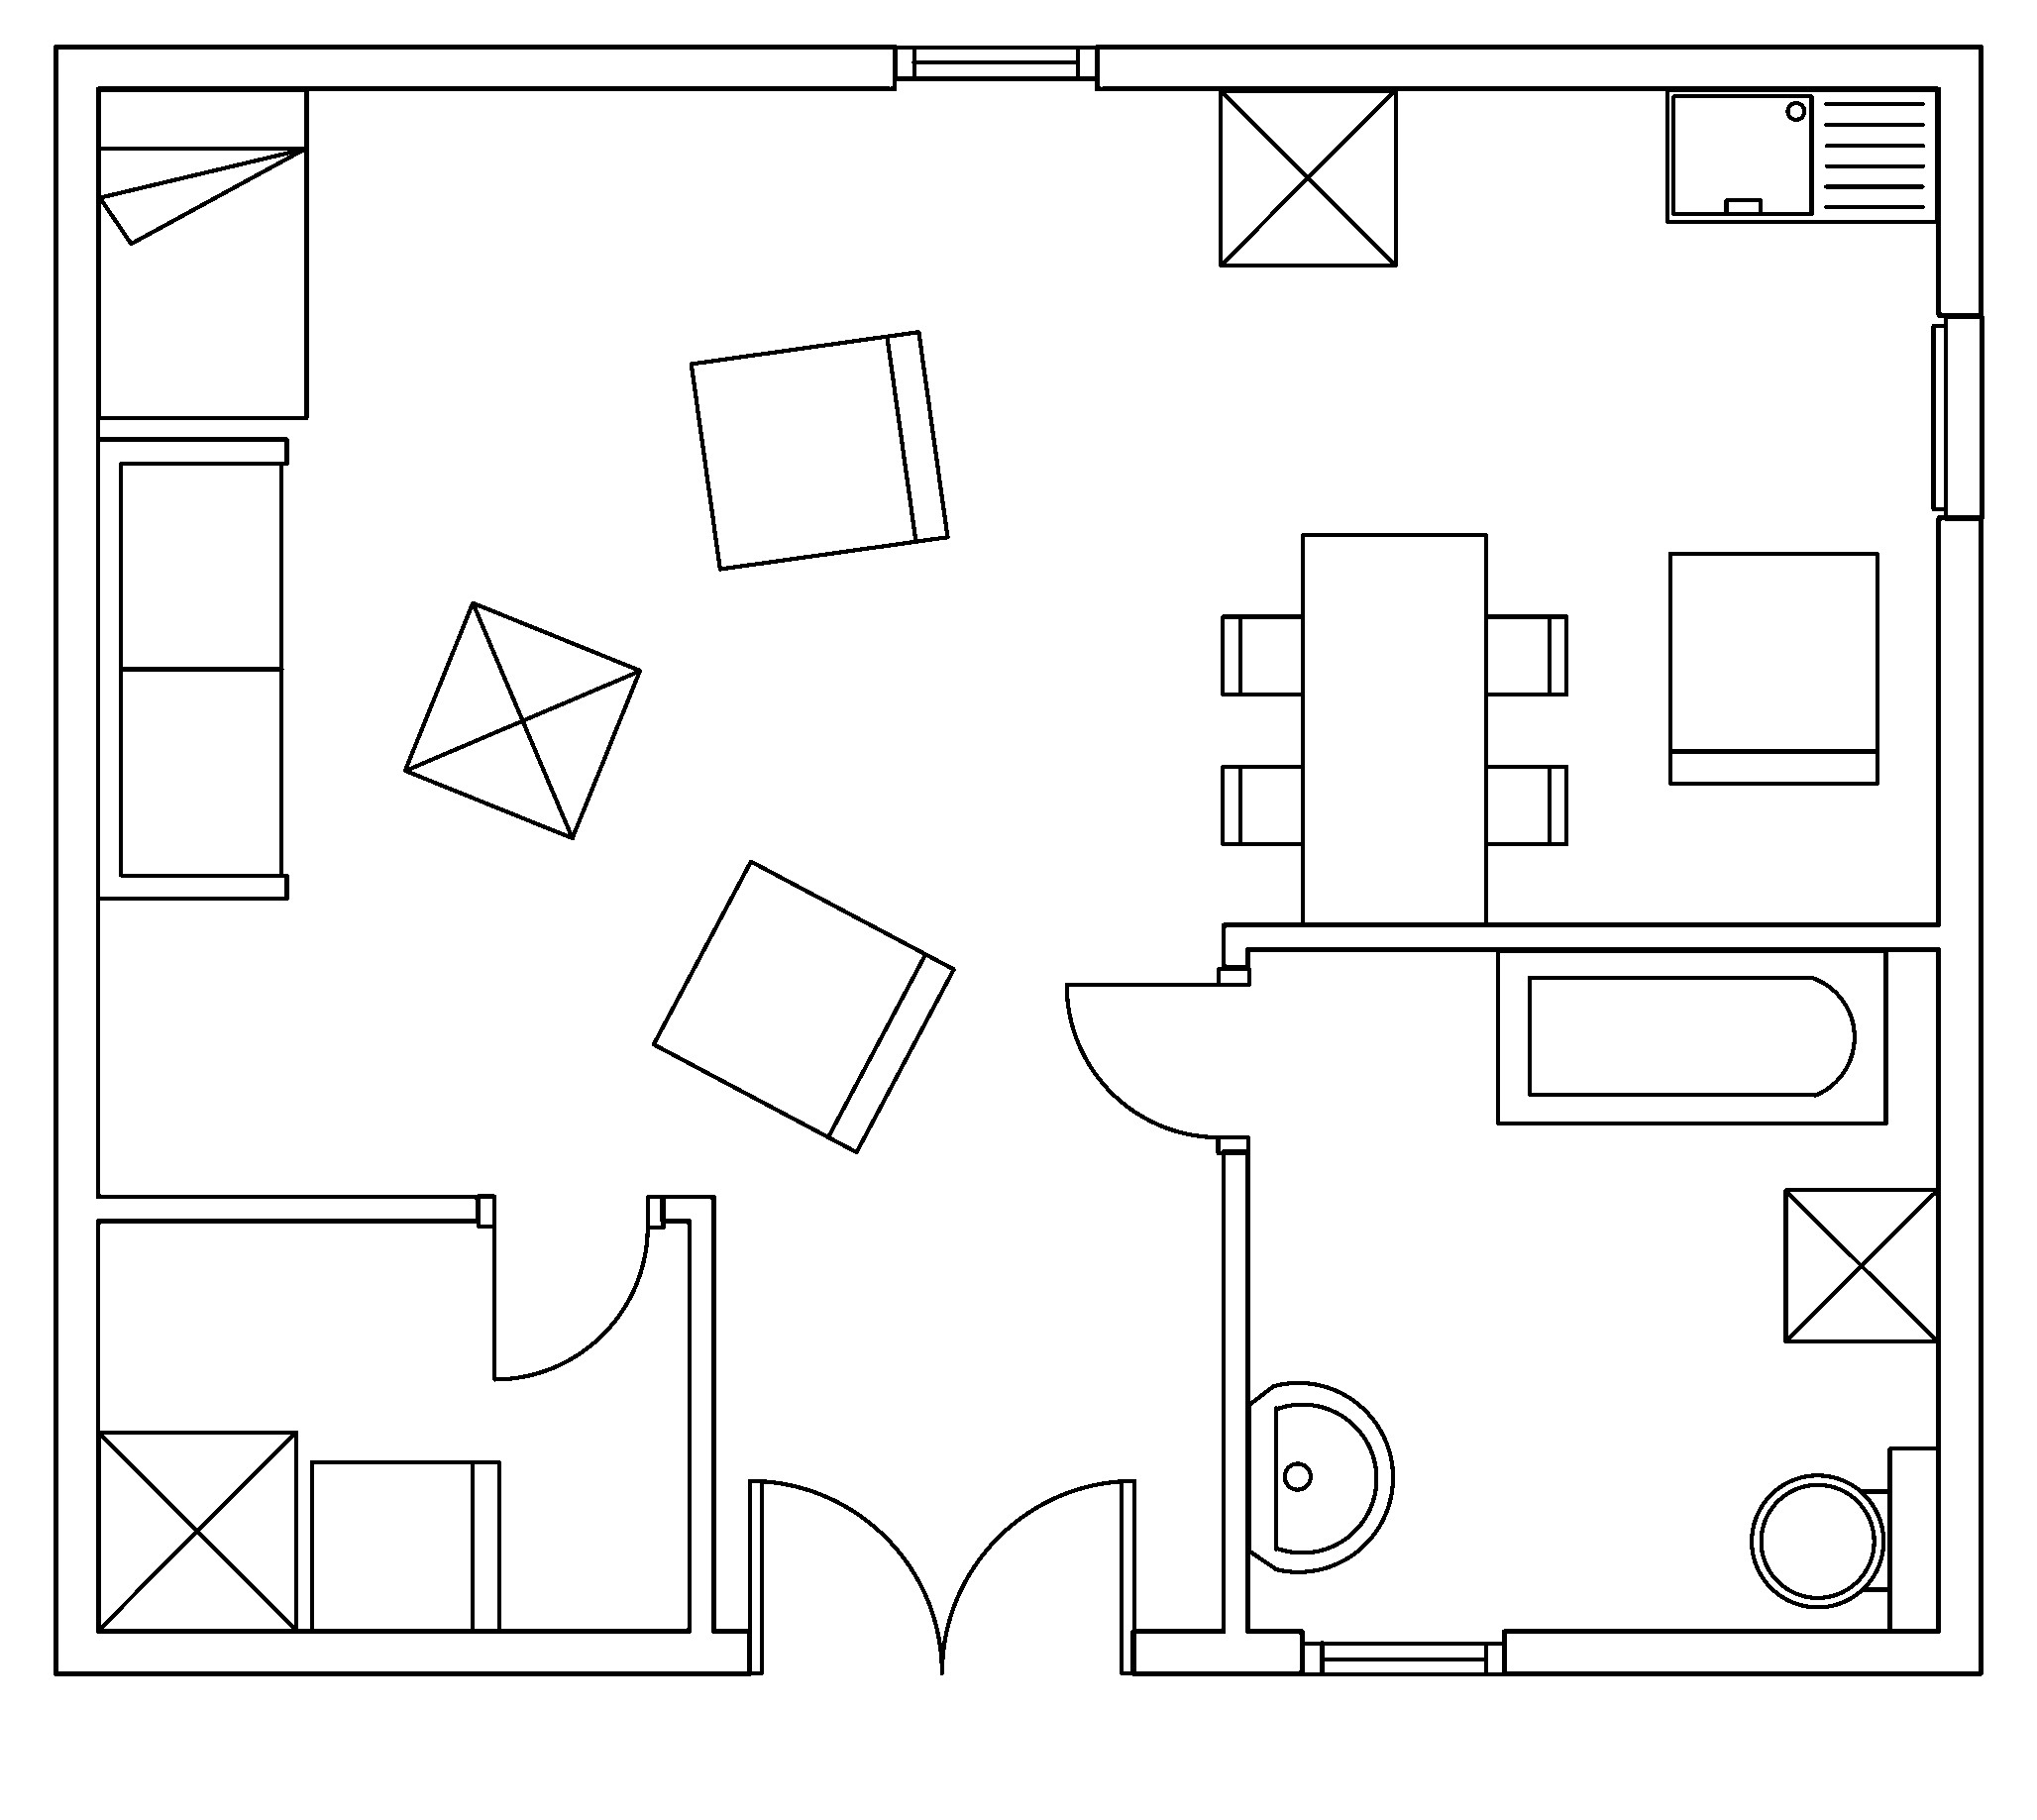bed: (95, 86, 309, 420)
coffee_table: (402, 599, 643, 841), (95, 1428, 299, 1632), (1217, 86, 1398, 267), (1781, 1186, 1940, 1344)
dining_table: (1219, 531, 1568, 926)
large_sink: (1749, 1444, 1940, 1632)
large_sofa: (95, 436, 290, 901)
sink: (1663, 86, 1940, 223)
small_sink: (1245, 1381, 1394, 1572)
small_sofa: (650, 857, 955, 1154), (688, 329, 950, 571), (1666, 550, 1879, 785), (307, 1458, 500, 1632)
tub: (1494, 947, 1888, 1126)
